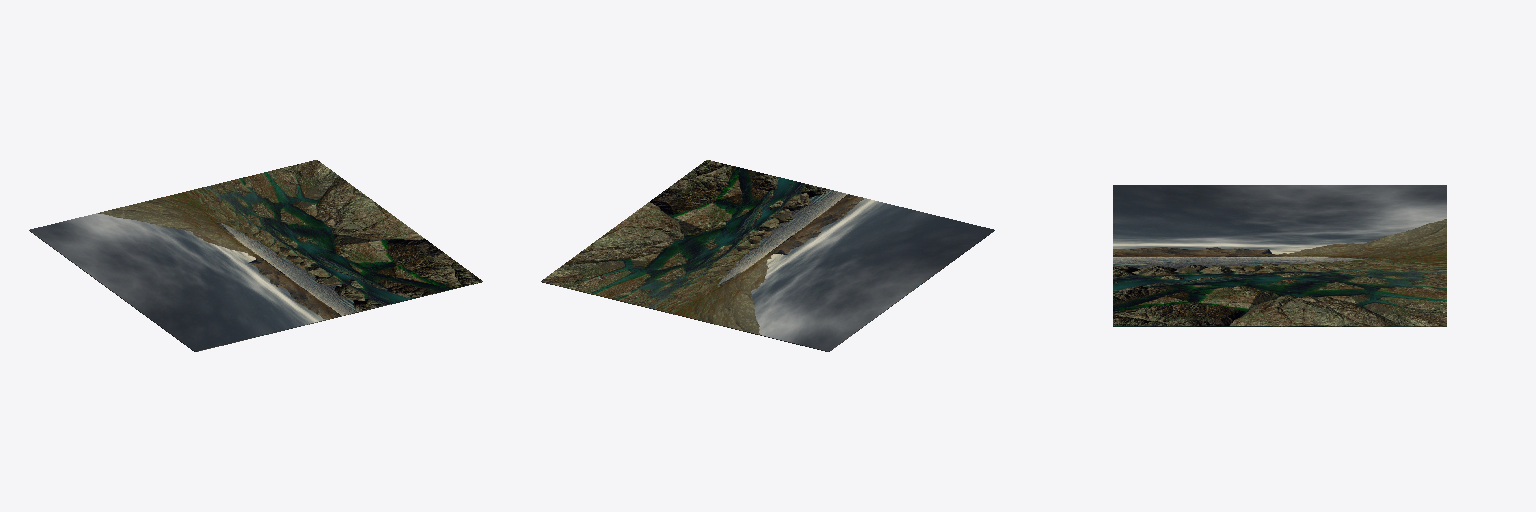
3 renders of one model, left to right at view 1: azimuth 30°, elevation 25°; view 2: azimuth 150°, elevation 25°; view 3: azimuth 270°, elevation 25°, orthographic.
Parts seen in each view (by area): view 1: floor_Cube_Cube.001; view 2: floor_Cube_Cube.001; view 3: floor_Cube_Cube.001.
Boxes of the visible parts, x1=… form: floor_Cube_Cube.001: x1=29, y1=160, x2=482, y2=351; floor_Cube_Cube.001: x1=541, y1=160, x2=994, y2=351; floor_Cube_Cube.001: x1=1113, y1=185, x2=1446, y2=326.
Bounding box in the file's own units: 100 × 0.2 × 100.
Materials: 1 (1 with a texture image).